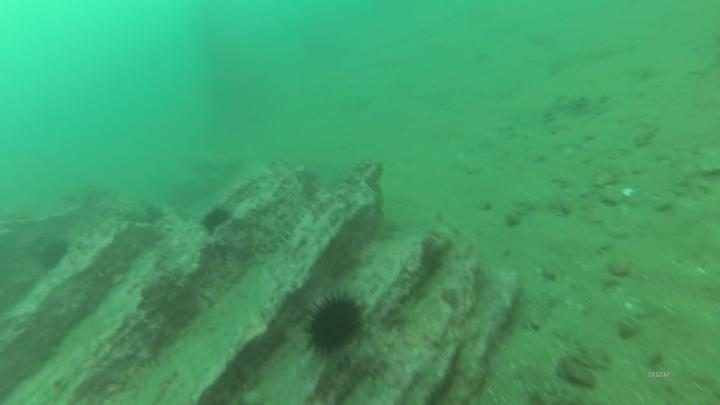echinus: (303, 291, 367, 360), (34, 237, 73, 274), (198, 205, 231, 235)
